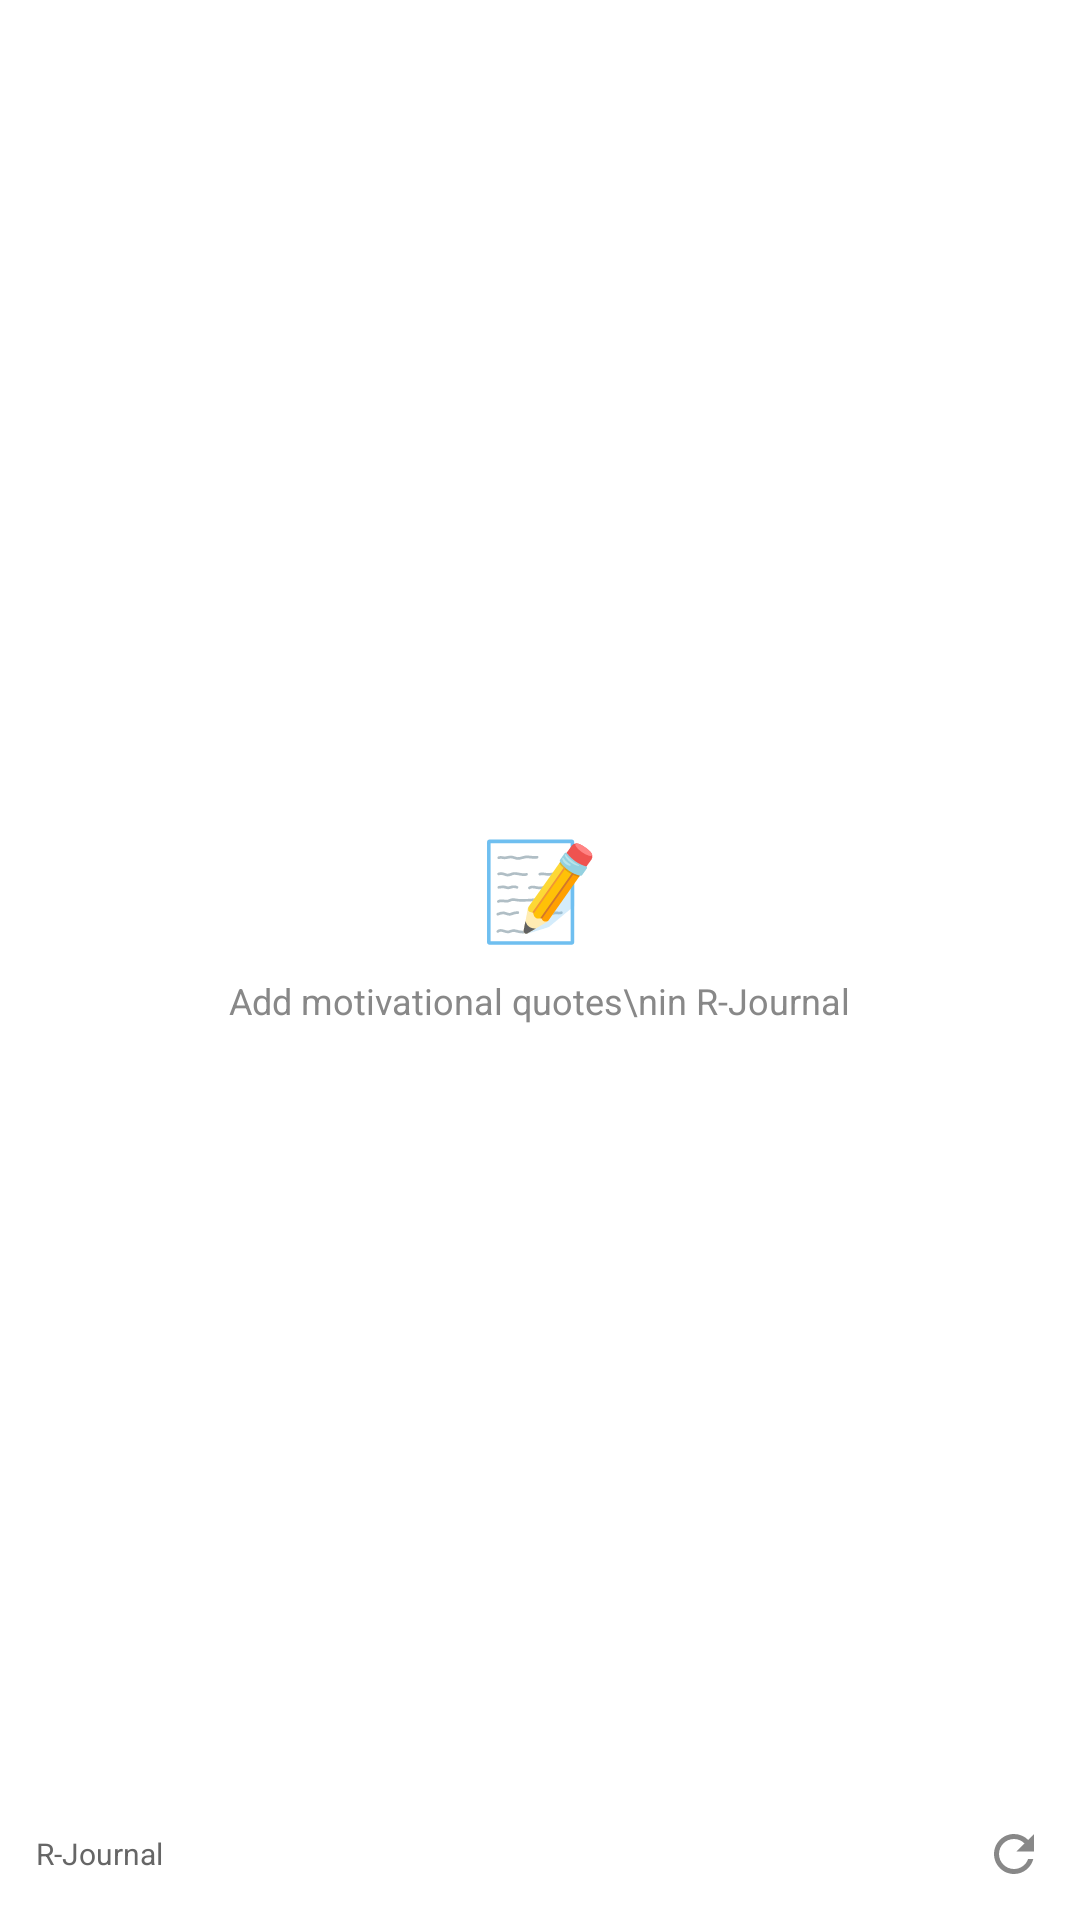

Icons on this 1080x1920 Android screen, each with its box as BBox(x1, y1, x2, y2):
Refresh: BBox(994, 1834, 1034, 1874)
